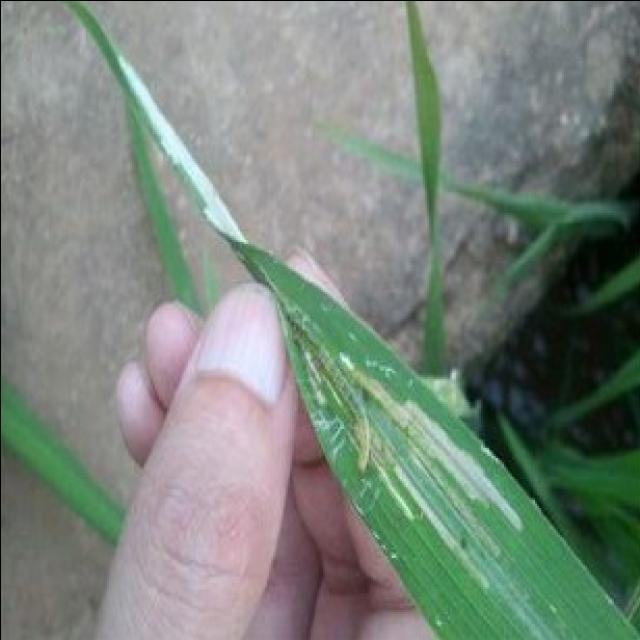rice leaf roller: (287, 303, 540, 630), (118, 56, 247, 241)
